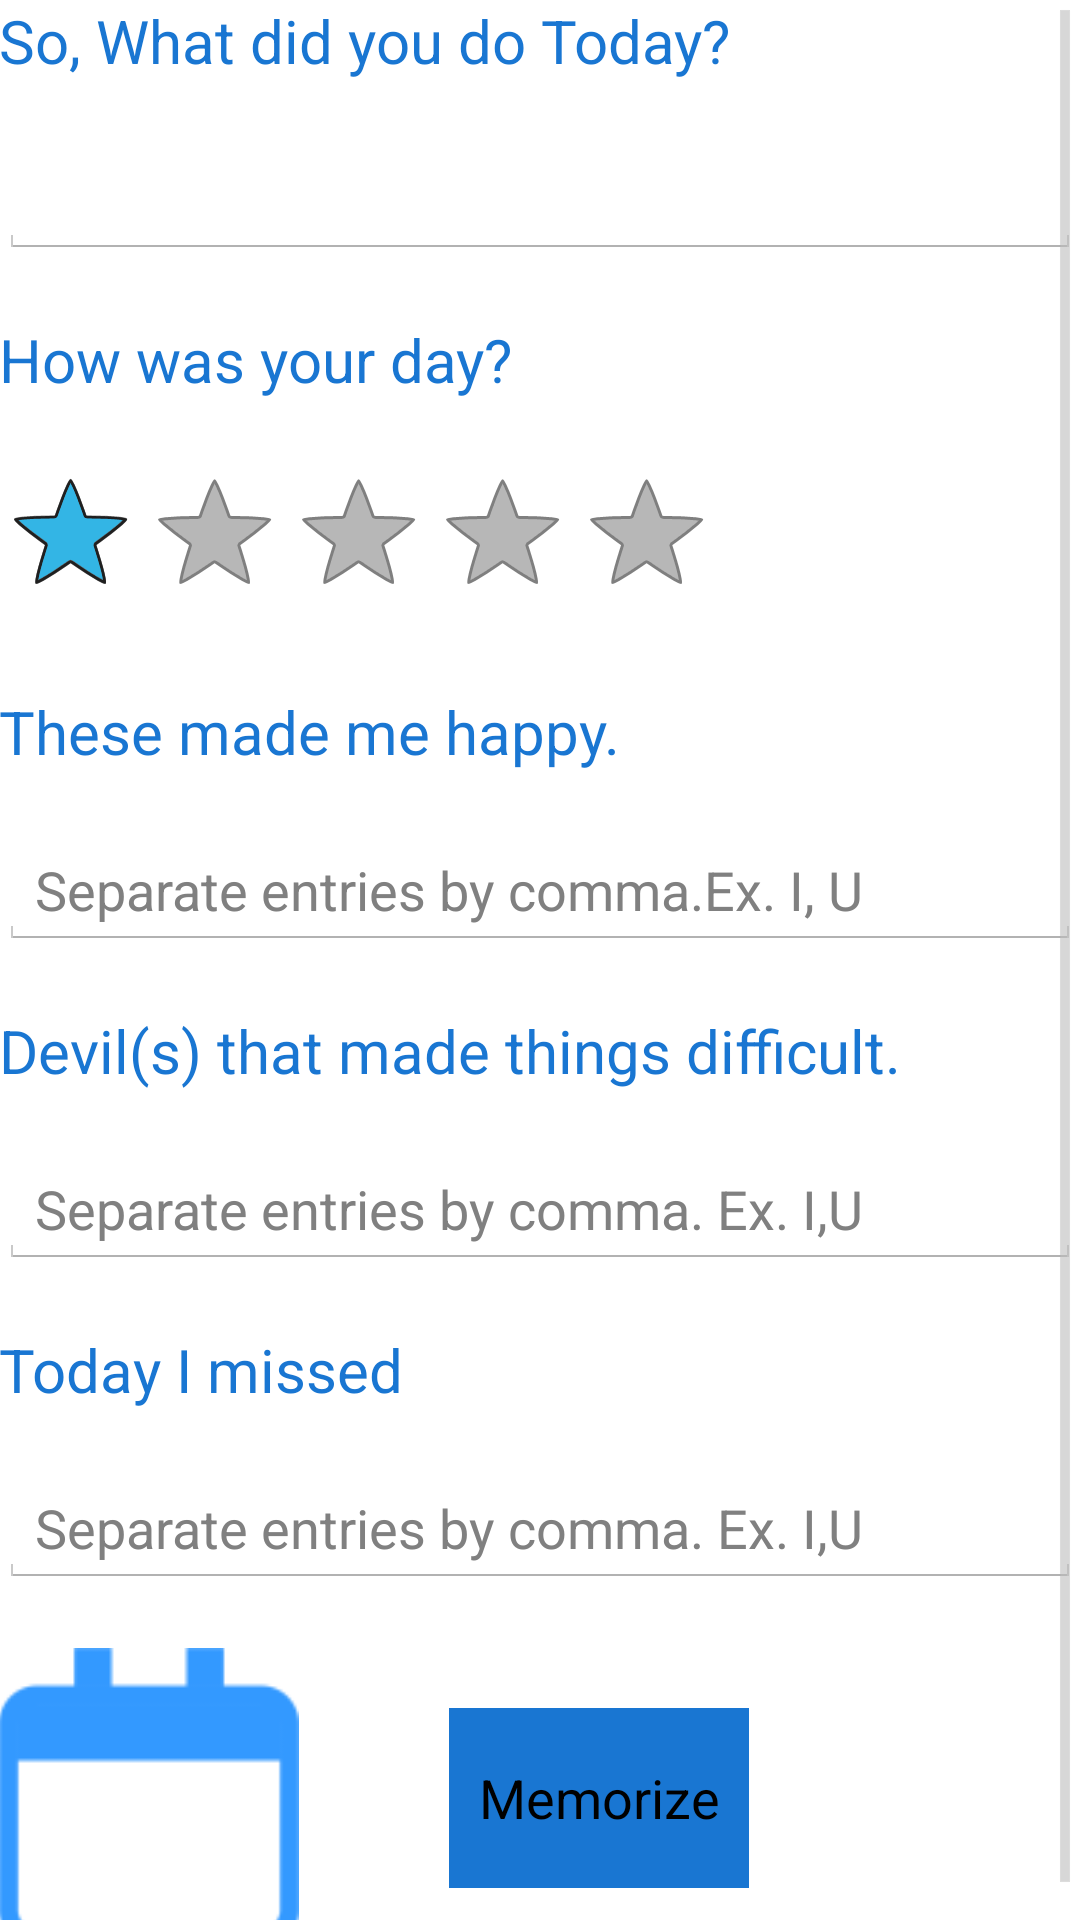

Icon bounding boxes for this 1080 × 1920 phone screenshot, format (x1=x1, y1=y1, x2=x2, y2=y2):
calendar: (x1=0, y1=1648, x2=299, y2=1920)
